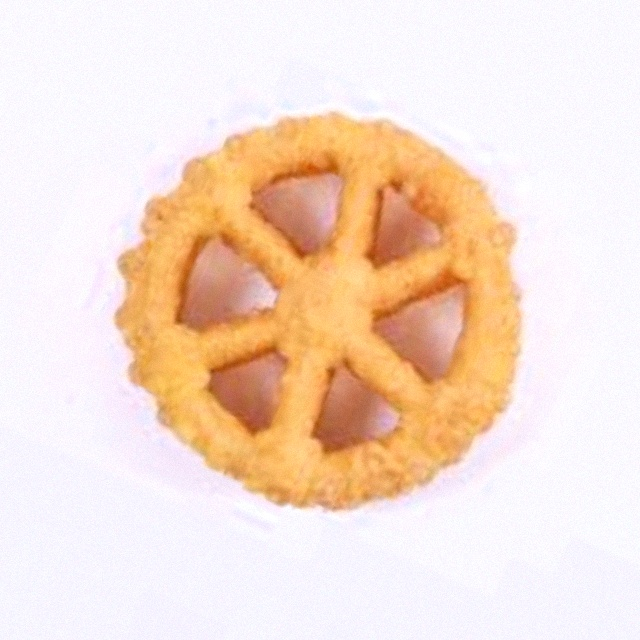Kokis: (109, 69, 531, 571)
